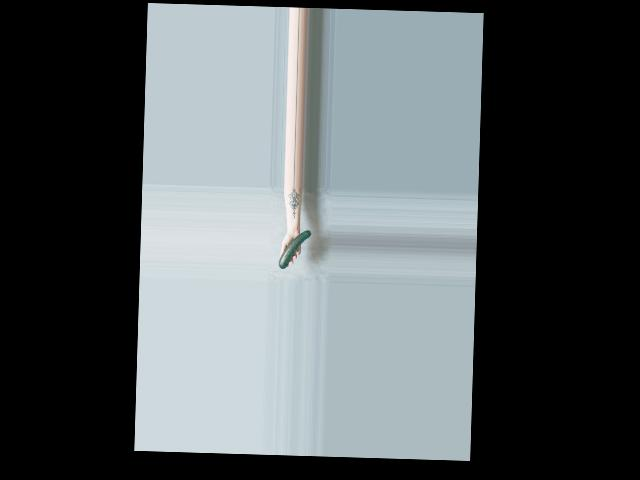cucumber: (279, 229, 311, 270)
